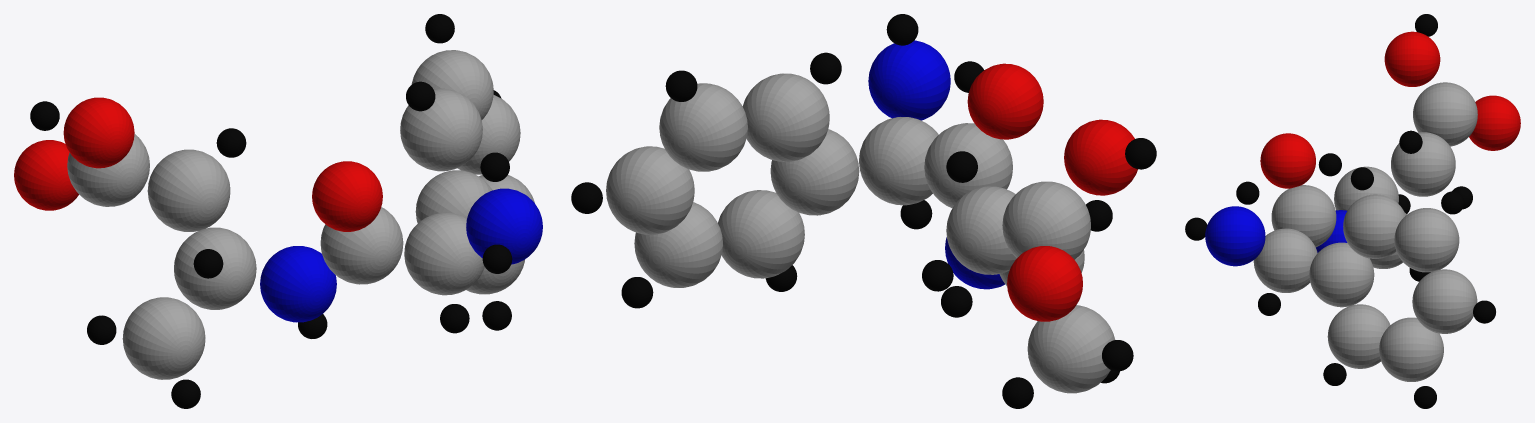
The model's file is Aspartame.glb.
3 views of the same model, side by side, from view 1: azimuth 30°, elevation 25°; view 2: azimuth 150°, elevation 25°; view 3: azimuth 270°, elevation 25° (orthographic). The views are drawn at different scales.
Visible parts, largest first — view 1: world; view 2: world; view 3: world.
Boxes of the visible parts, x1,y1,x2,y2 form: world: (14,14,542,408); world: (571,14,1156,408); world: (1185,14,1520,408).
Bounding box in the file's own units: 9.86 × 5.35 × 7.24.
